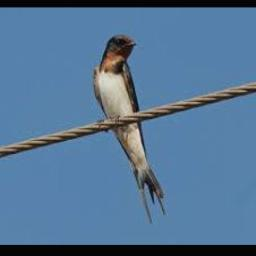Swallow: (93, 34, 165, 223)
